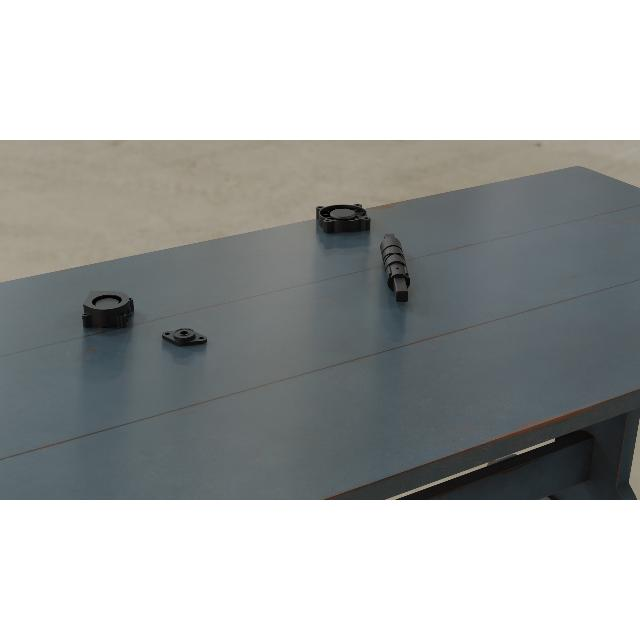Pieza1: (378, 229, 414, 307)
Pieza2: (156, 324, 212, 348)
Pieza3: (80, 290, 136, 330)
Pieza4: (316, 203, 372, 234)
